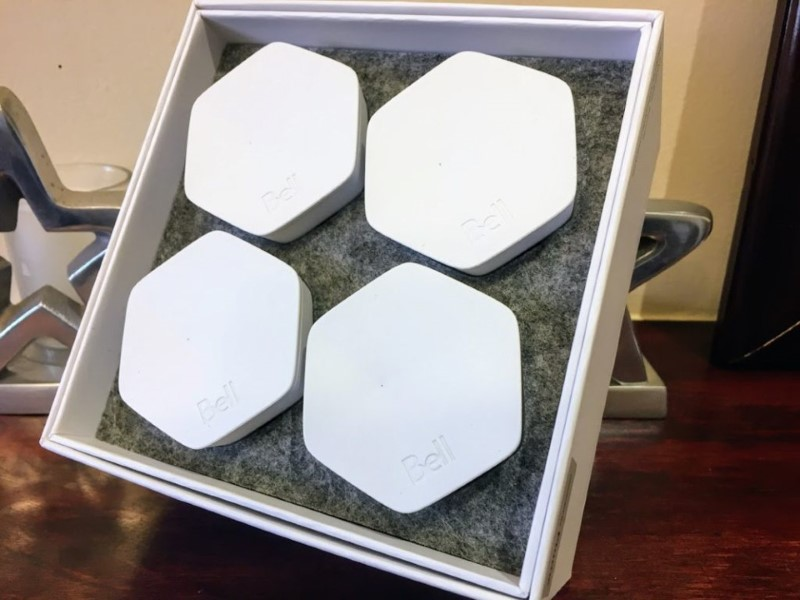pod: (303, 258, 534, 517), (361, 46, 600, 279), (116, 229, 311, 470), (176, 38, 371, 251)
